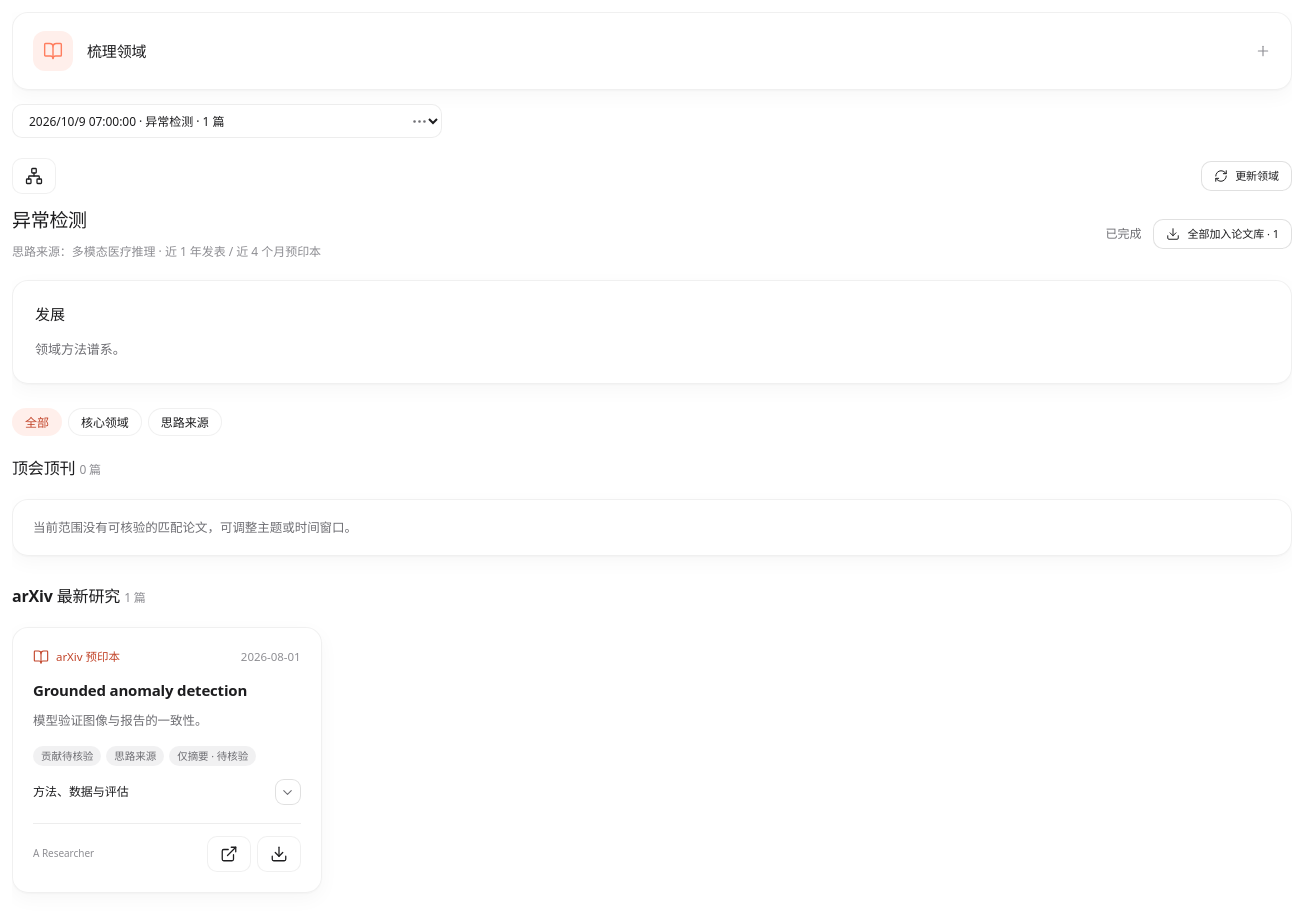
Scenario: research discovery interaction › deletes the selected history entry from the three-dot menu
expect the dropdown named "研究历史" is shown: met, box x1=12 y1=104 x2=442 y2=138
What coordinates should you click on to do the following:
click the button with class "research-history-more"
I would click on:
 (419, 121)
Its box is x1=404 y1=106 x2=434 y2=136.
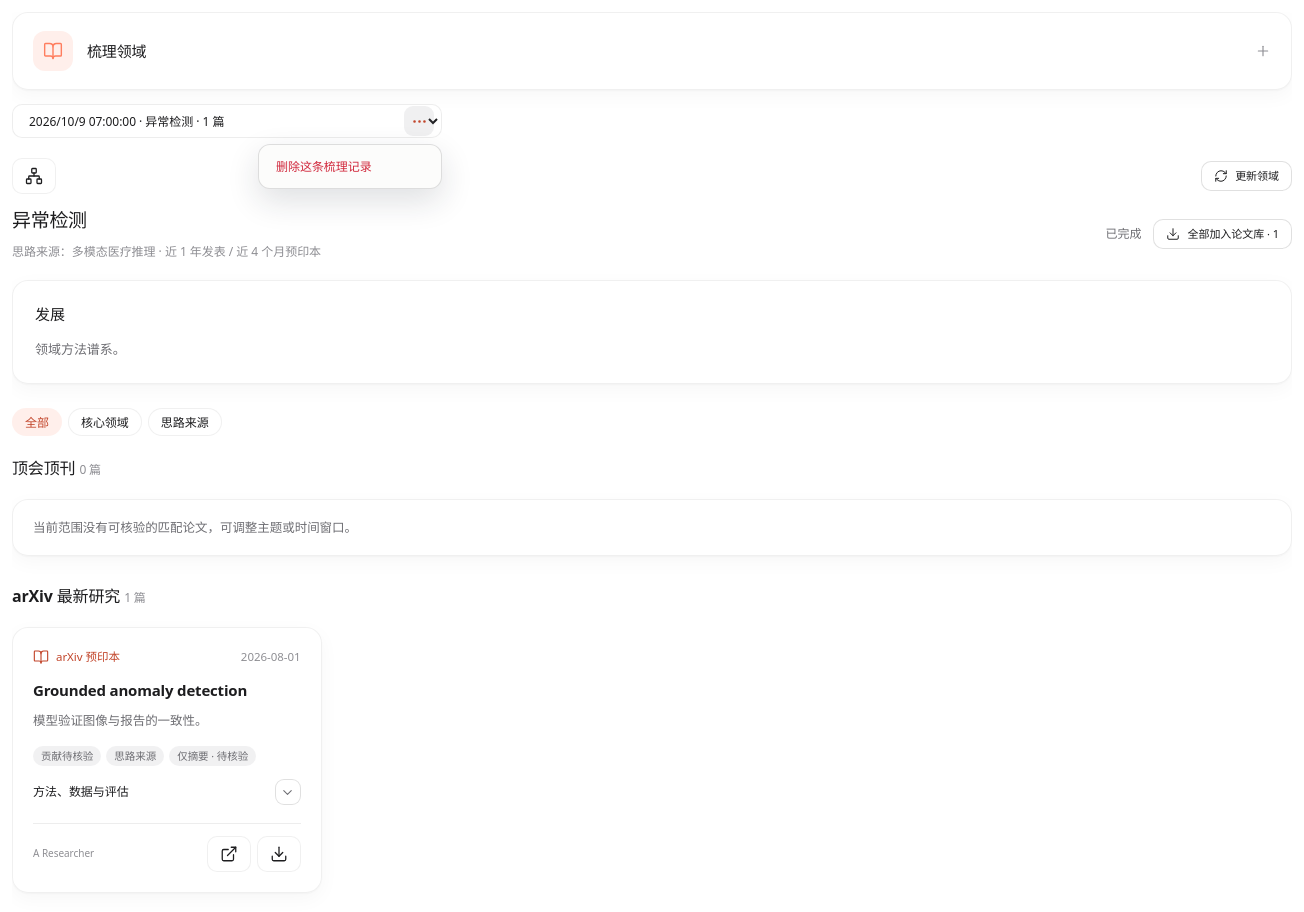
expect the menu with class "research-history-menu" reads "删除这条梳理记录": met
What coordinates should you click on to do the following:
click the menu item "删除这条梳理记录"
I would click on:
 (350, 166)
Its box is x1=264 y1=150 x2=436 y2=183.
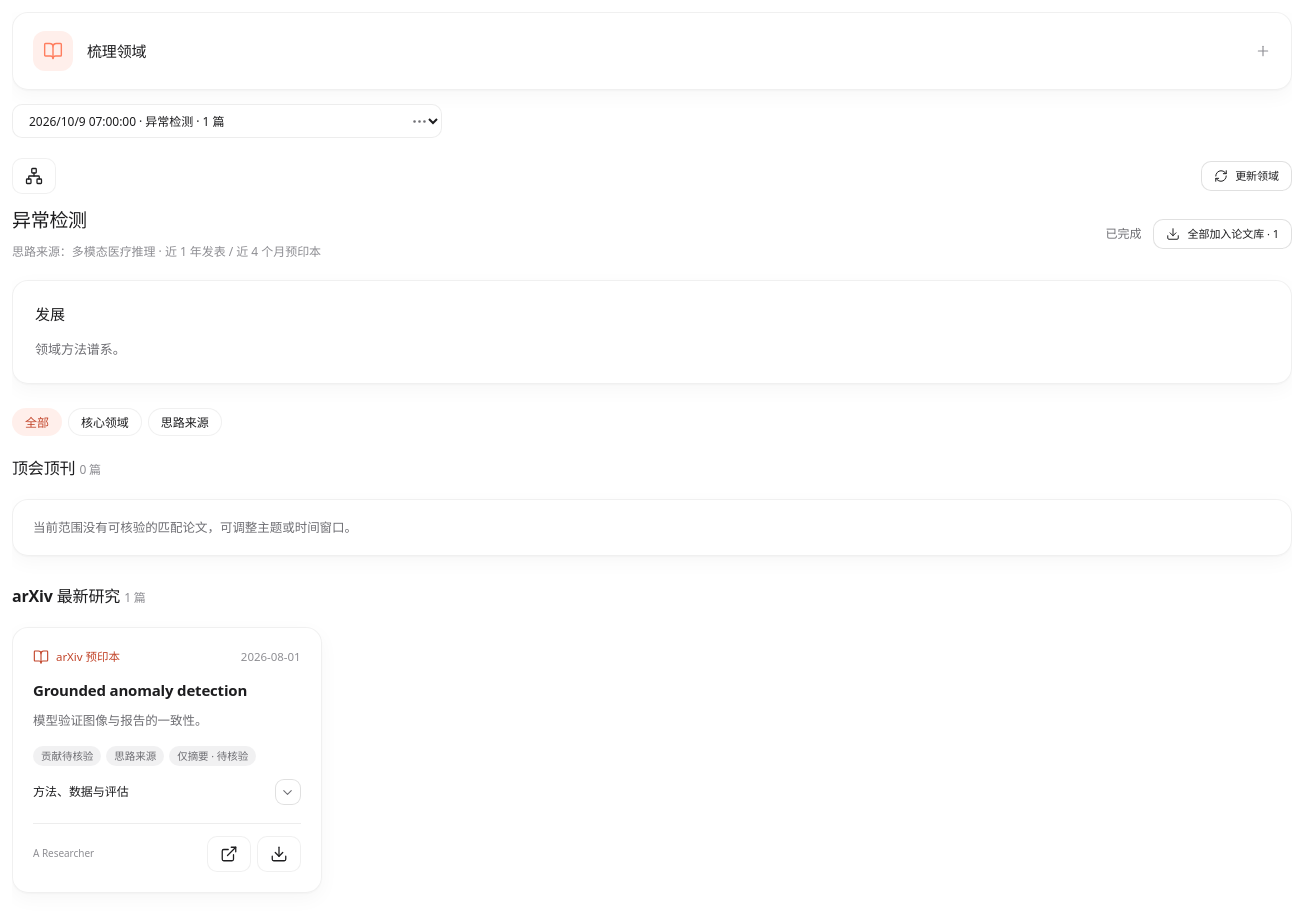
expect the menu with class "research-history-menu" is gone: met
